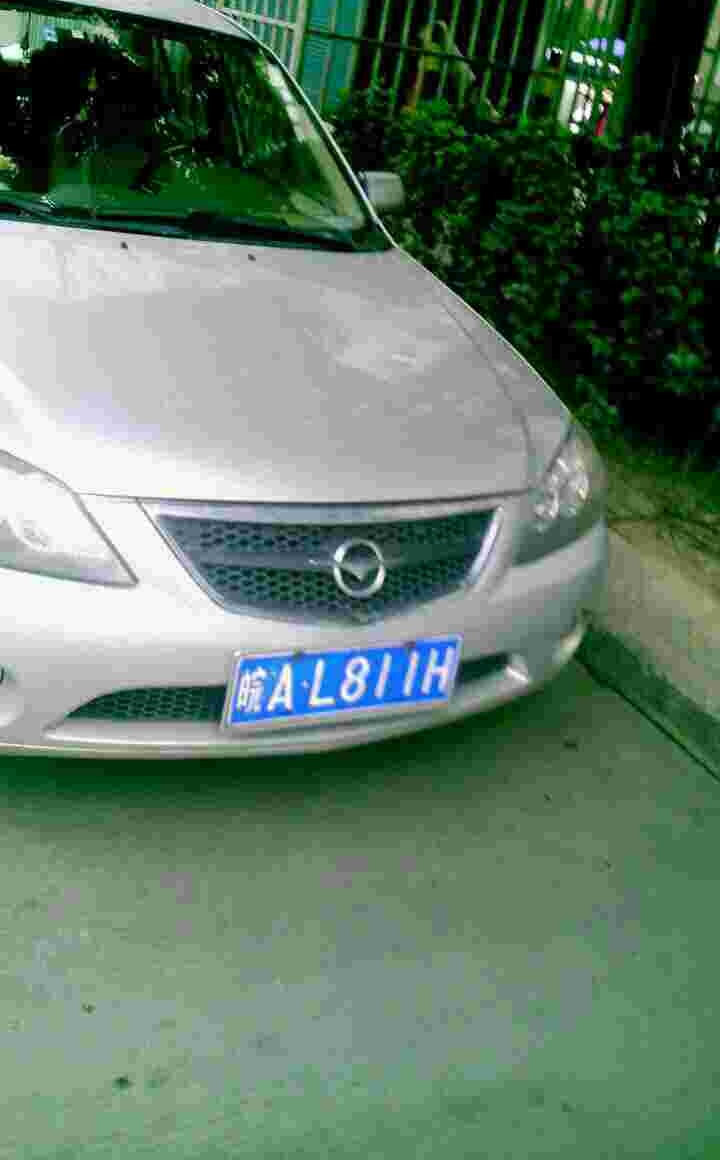license_plate: (223, 642, 468, 731)
